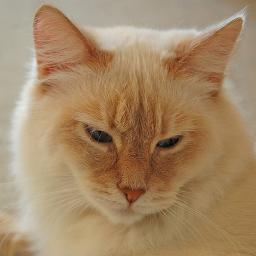catnose: (118, 186, 147, 203)
